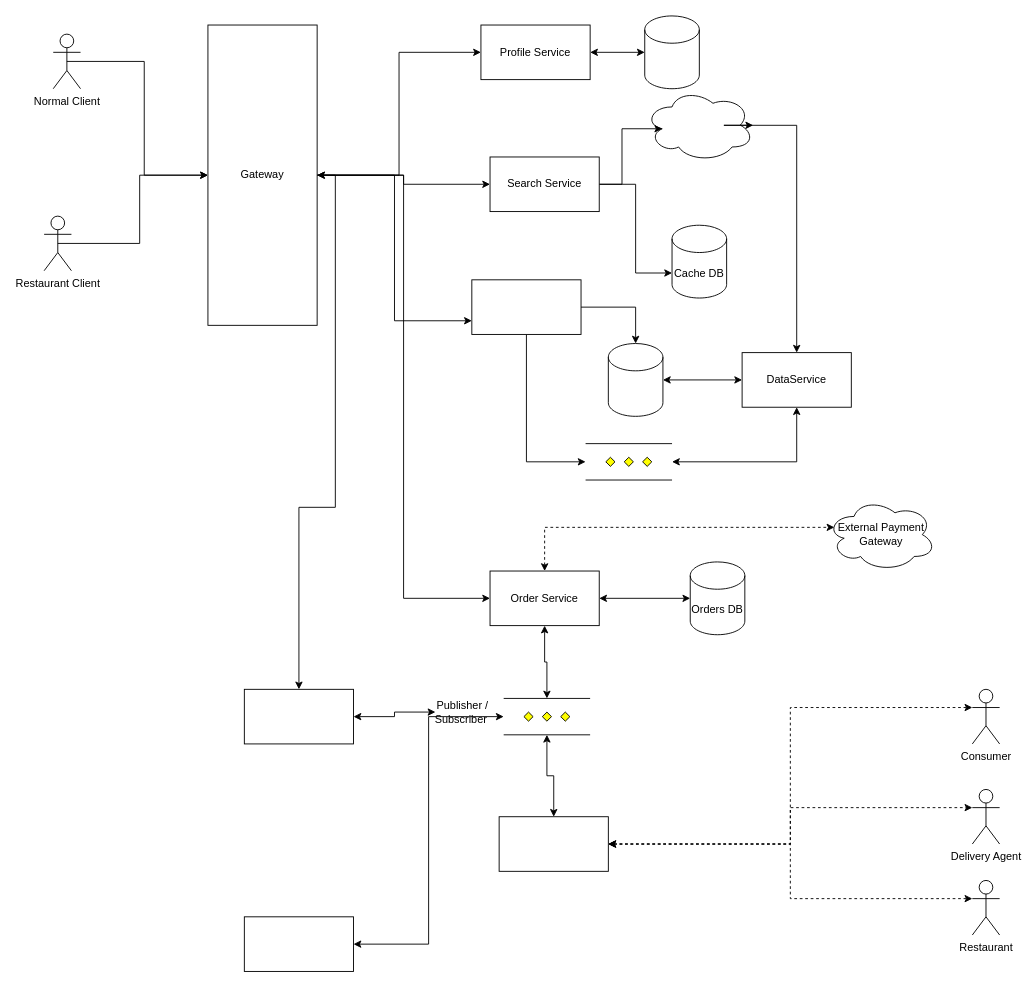
The diagram is 1036 pixels wide and 987 high, and some of its shapes have lost their labels. Each missing label, with the box of its shape:
Dispatch Service: (243, 916, 354, 971)
Notification Service: (498, 816, 608, 871)
Order Fullfillment Service: (243, 688, 354, 744)
Profile DB: (644, 15, 699, 89)
Restaurant DB: (607, 343, 663, 416)
Restaurant Service: (471, 279, 581, 334)
Search Cluster: (644, 88, 754, 162)
